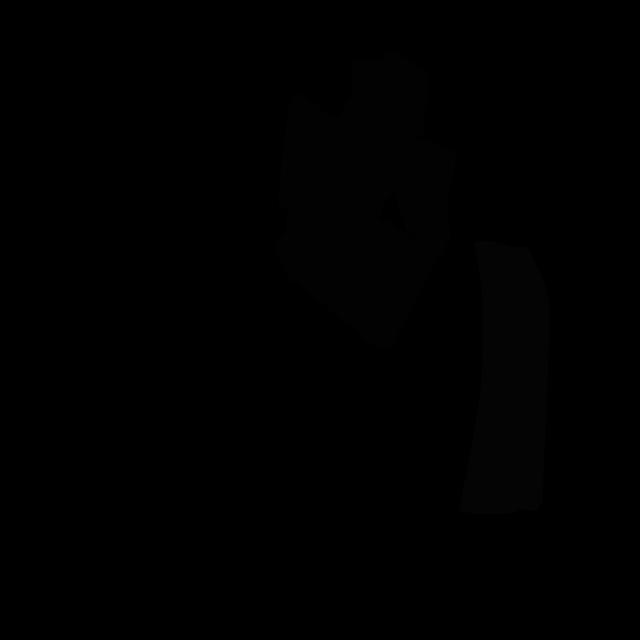cardboard: (278, 51, 457, 252), (276, 193, 443, 349)
soft_plastic: (459, 240, 550, 514)
